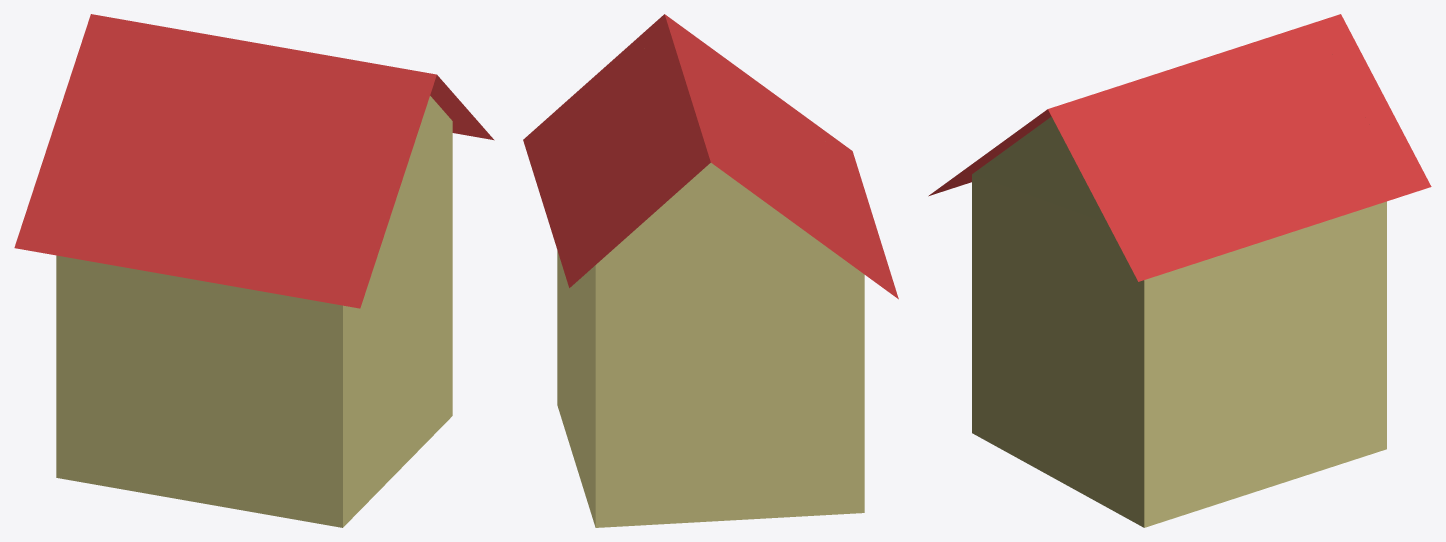
The picture shows the model from 3 angles, left to right: view 1: azimuth 30°, elevation 25°; view 2: azimuth 150°, elevation 25°; view 3: azimuth 270°, elevation 25°; orthographic projection. The views are drawn at different scales.
Size of the model in its own units: 15.71 by 15.85 by 13.45.
